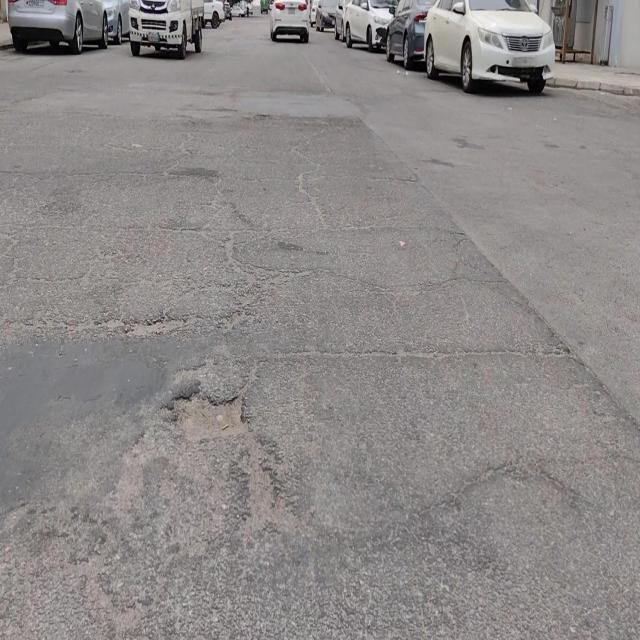Potholes: (160, 382, 248, 444)
